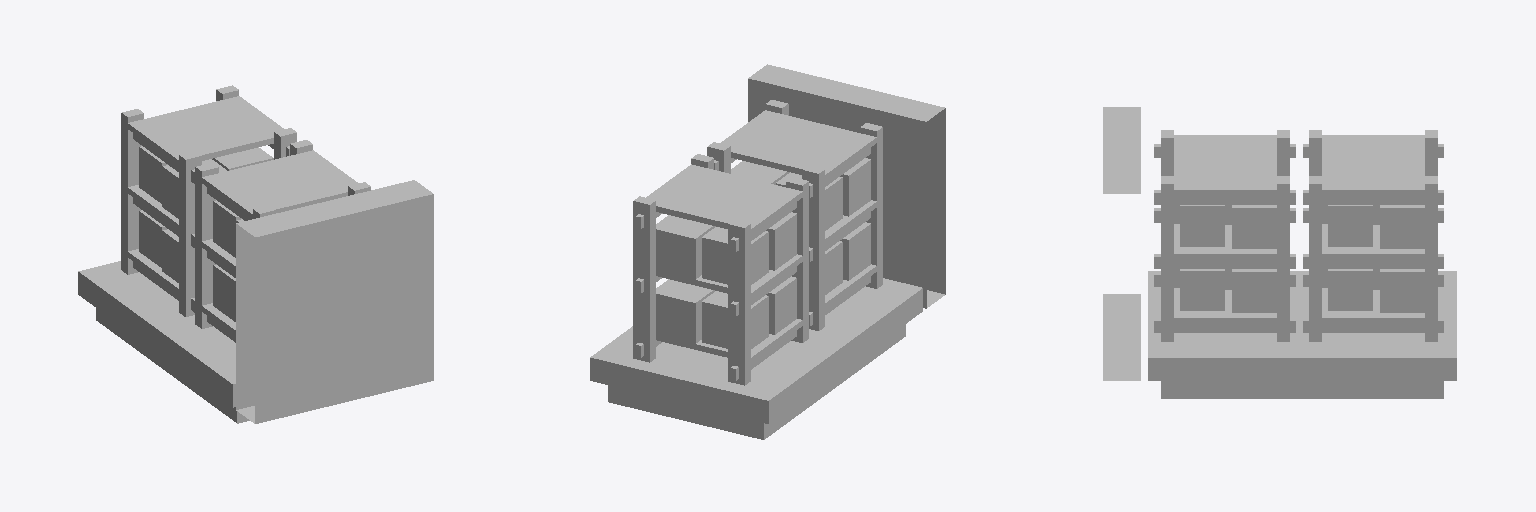
Rendered from carbide_kiln_shelf.obj.
3 renders of one model, left to right at view 1: azimuth 30°, elevation 25°; view 2: azimuth 150°, elevation 25°; view 3: azimuth 270°, elevation 25°, orthographic.
Parts seen in each view (by area): view 1: inletBoard, post, trolley, saggar14, saggar11, saggar3, saggar6, saggar9, saggar16, saggar12; view 2: post, trolley, inletBoard, saggar15, saggar10, saggar14, saggar11, saggar9, saggar8, saggar16, saggar1, saggar3 (+2 smaller); view 3: post, trolley, inletBoard, saggar2, saggar7, saggar15, saggar10, saggar4, saggar5, saggar13, saggar12.
Part boxes in pixels (x1,y1,x2,y2): inletBoard: (236,180,433,423); post: (121,85,370,342); trolley: (78,261,249,423); saggar14: (139,210,166,267); saggar11: (139,146,167,203); saggar3: (213,200,241,257); saggar6: (213,265,235,321); saggar9: (162,159,226,218); saggar16: (162,229,178,282); saggar12: (212,147,273,170); post: (633,100,882,385); trolley: (590,278,922,439); inletBoard: (748,64,945,308); saggar15: (656,279,714,343); saggar10: (656,215,715,279); saggar14: (702,291,768,348); saggar11: (702,227,768,284); saggar9: (766,212,796,270); saggar8: (840,222,870,280); saggar16: (766,276,796,334); saggar1: (840,158,870,216); saggar3: (776,172,842,230); post: (1154,130,1443,341); trolley: (1148,271,1456,398); inletBoard: (1103,107,1140,380); saggar2: (1232,205,1276,248); saggar7: (1232,269,1276,312); saggar15: (1380,269,1424,312); saggar10: (1380,205,1424,248); saggar4: (1180,205,1224,246); saggar5: (1180,269,1224,310); saggar13: (1328,269,1372,310); saggar12: (1328,205,1372,246).
Bounding box in the file's own units: 2 × 2.25 × 3.44.